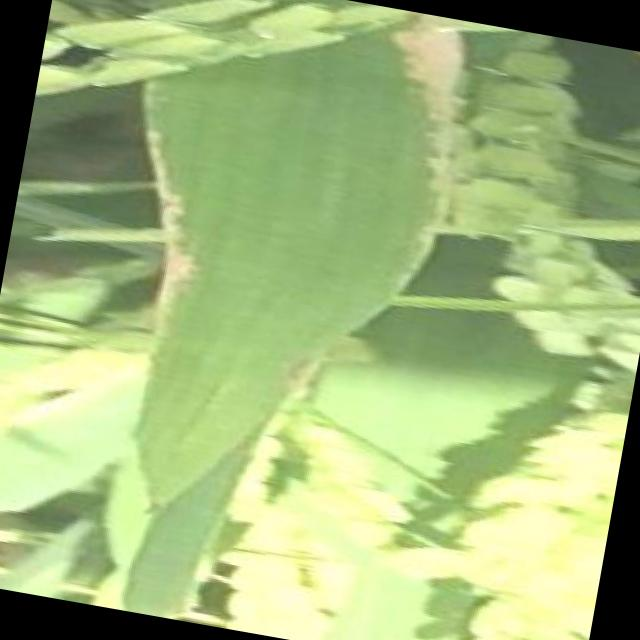Rice_Bacterial_Blight: (96, 62, 332, 454)
